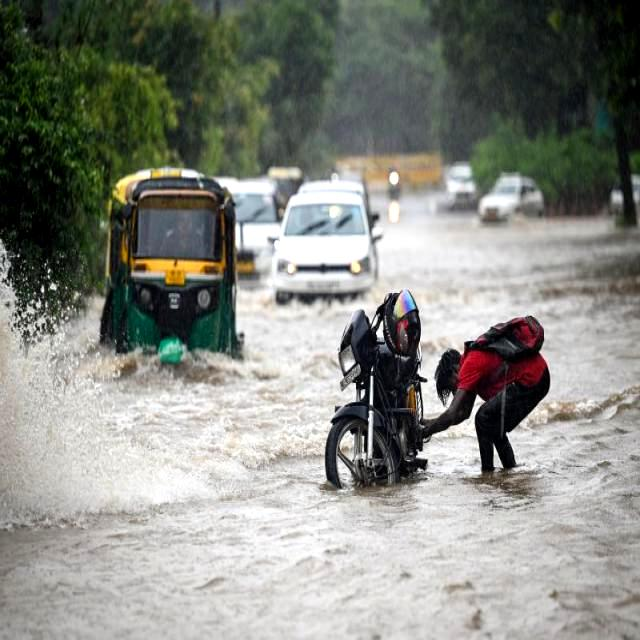civilian: (429, 316, 568, 484)
